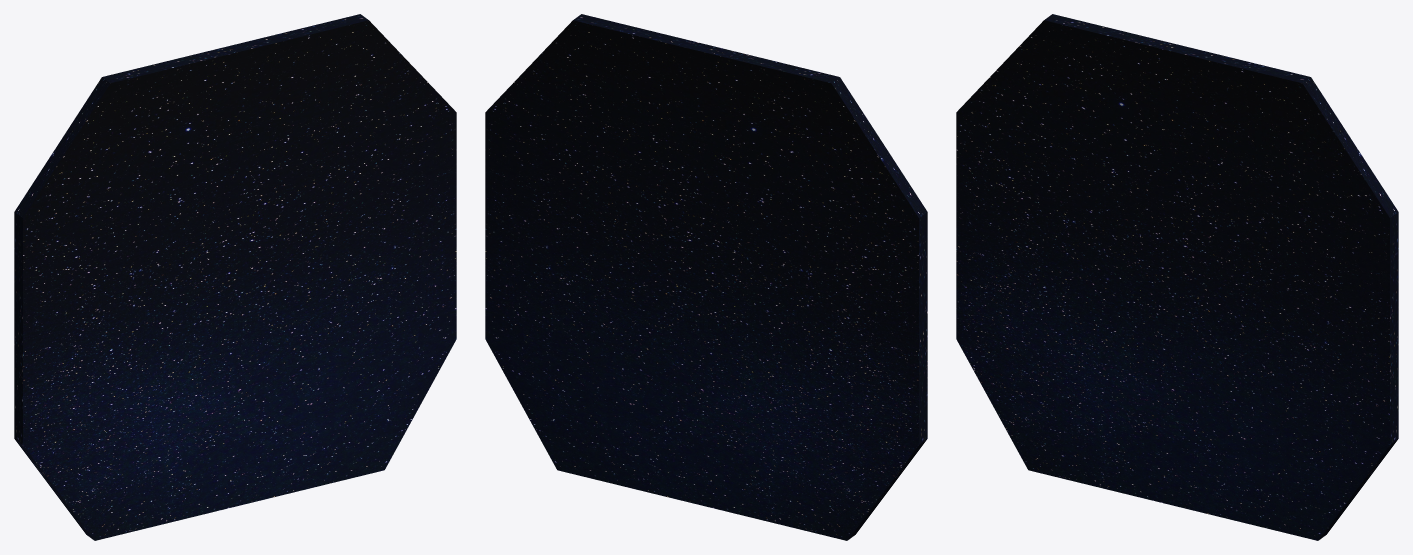
File: portalOn.obj
3 renders of one model, left to right at view 1: azimuth 30°, elevation 25°; view 2: azimuth 150°, elevation 25°; view 3: azimuth 330°, elevation 25°, orthographic.
Visible parts, largest first — view 1: Plane; view 2: Plane; view 3: Plane.
Boxes of the visible parts, x1,y1,x2,y2 form: Plane: [14, 14, 456, 540]; Plane: [485, 14, 927, 540]; Plane: [956, 14, 1398, 540].
Bounding box in the file's own units: 7.4 × 7.4 × 0.2538.
1 material, 1 textured.
